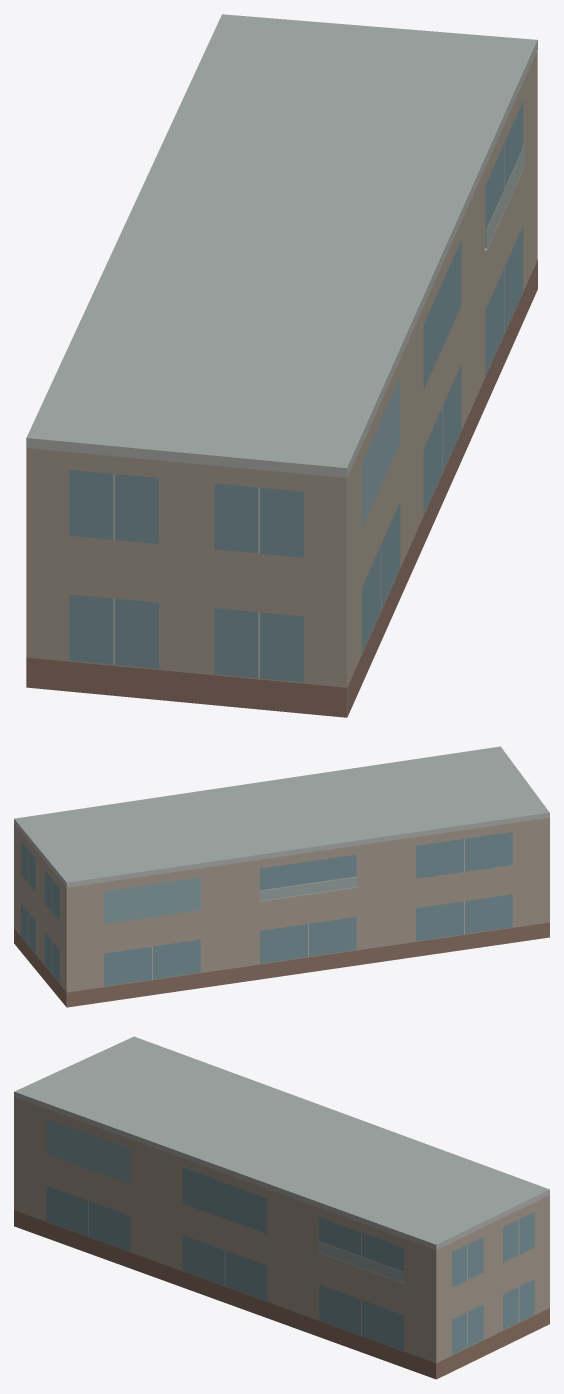
The model's file is survey-upis-32810956.glb.
3 renders of one model, top to bottom at view 1: azimuth 30°, elevation 25°; view 2: azimuth 150°, elevation 25°; view 3: azimuth 270°, elevation 25°, orthographic. The views are drawn at different scales.
Parts seen in each view (by area): view 1: survey-upis-32810956.tmp; view 2: survey-upis-32810956.tmp; view 3: survey-upis-32810956.tmp.
Part boxes in pixels (bbox=[...]): survey-upis-32810956.tmp: bbox=[26, 14, 537, 717]; survey-upis-32810956.tmp: bbox=[14, 746, 549, 1007]; survey-upis-32810956.tmp: bbox=[14, 1036, 549, 1379].
Bounding box in the file's own units: 20.26 × 6.1 × 22.01.
